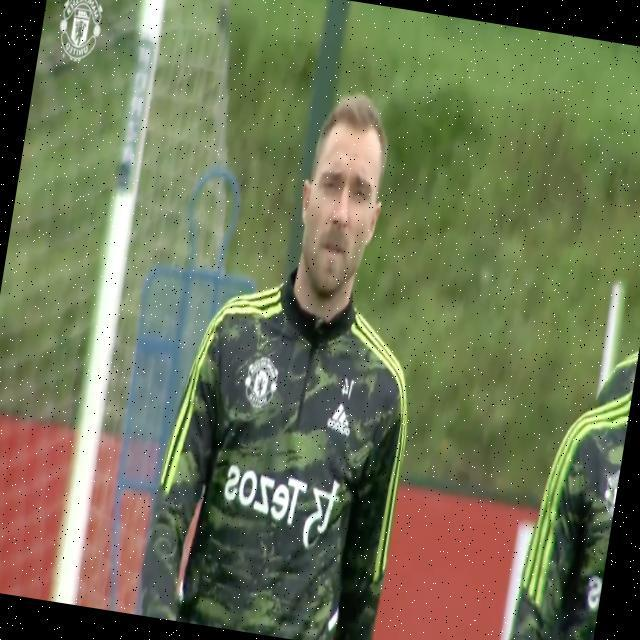Adidas: (322, 400, 355, 440)
